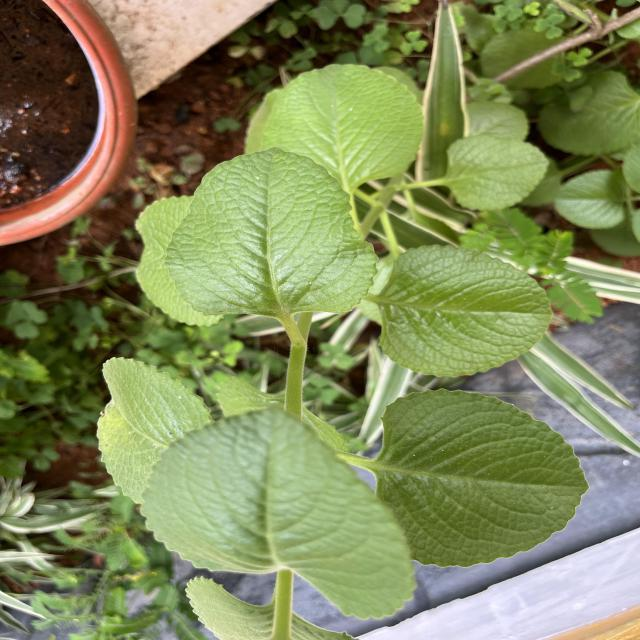Plectranthus barbatus: (140, 400, 418, 622), (374, 386, 590, 570), (162, 146, 380, 319), (377, 243, 556, 379), (262, 62, 424, 185), (95, 356, 213, 508), (537, 70, 640, 157), (444, 133, 552, 213), (552, 168, 626, 232)
